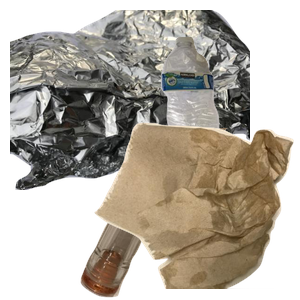glass: (78, 128, 298, 300)
metal: (10, 10, 250, 190)
plastic: (159, 34, 300, 176)
trash: (92, 120, 300, 300)
